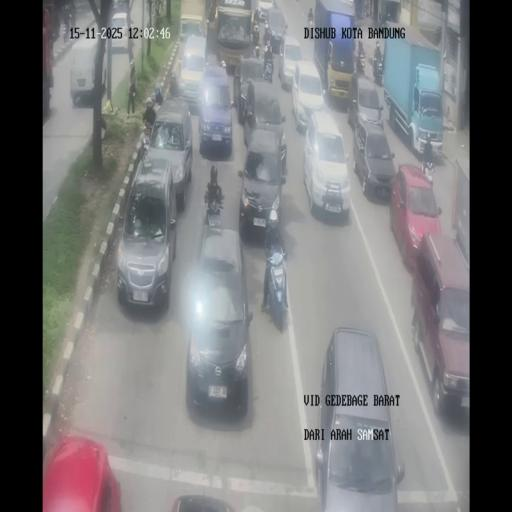car: (316, 330, 404, 508), (184, 223, 253, 413), (410, 236, 468, 416), (144, 100, 193, 208), (238, 129, 285, 241), (391, 166, 442, 268), (303, 110, 350, 219), (352, 119, 396, 201), (199, 66, 234, 155), (291, 60, 326, 132), (69, 39, 106, 107), (178, 35, 208, 108), (233, 54, 265, 121), (349, 73, 383, 133), (265, 7, 288, 54), (110, 12, 131, 52), (179, 15, 204, 43), (112, 0, 128, 10)
motorcycle: (262, 243, 290, 332), (204, 186, 224, 232), (421, 152, 435, 186), (142, 116, 155, 148), (263, 54, 274, 82), (150, 96, 162, 120), (374, 59, 384, 86), (169, 73, 179, 100), (356, 50, 366, 74), (67, 2, 76, 27), (100, 114, 107, 141), (252, 22, 259, 46), (307, 8, 314, 27), (254, 6, 261, 24), (278, 40, 284, 56), (378, 9, 384, 24), (254, 45, 260, 59), (364, 3, 370, 17)
truck: (382, 24, 442, 157), (313, 0, 355, 105), (214, 0, 254, 72), (41, 5, 54, 117)
